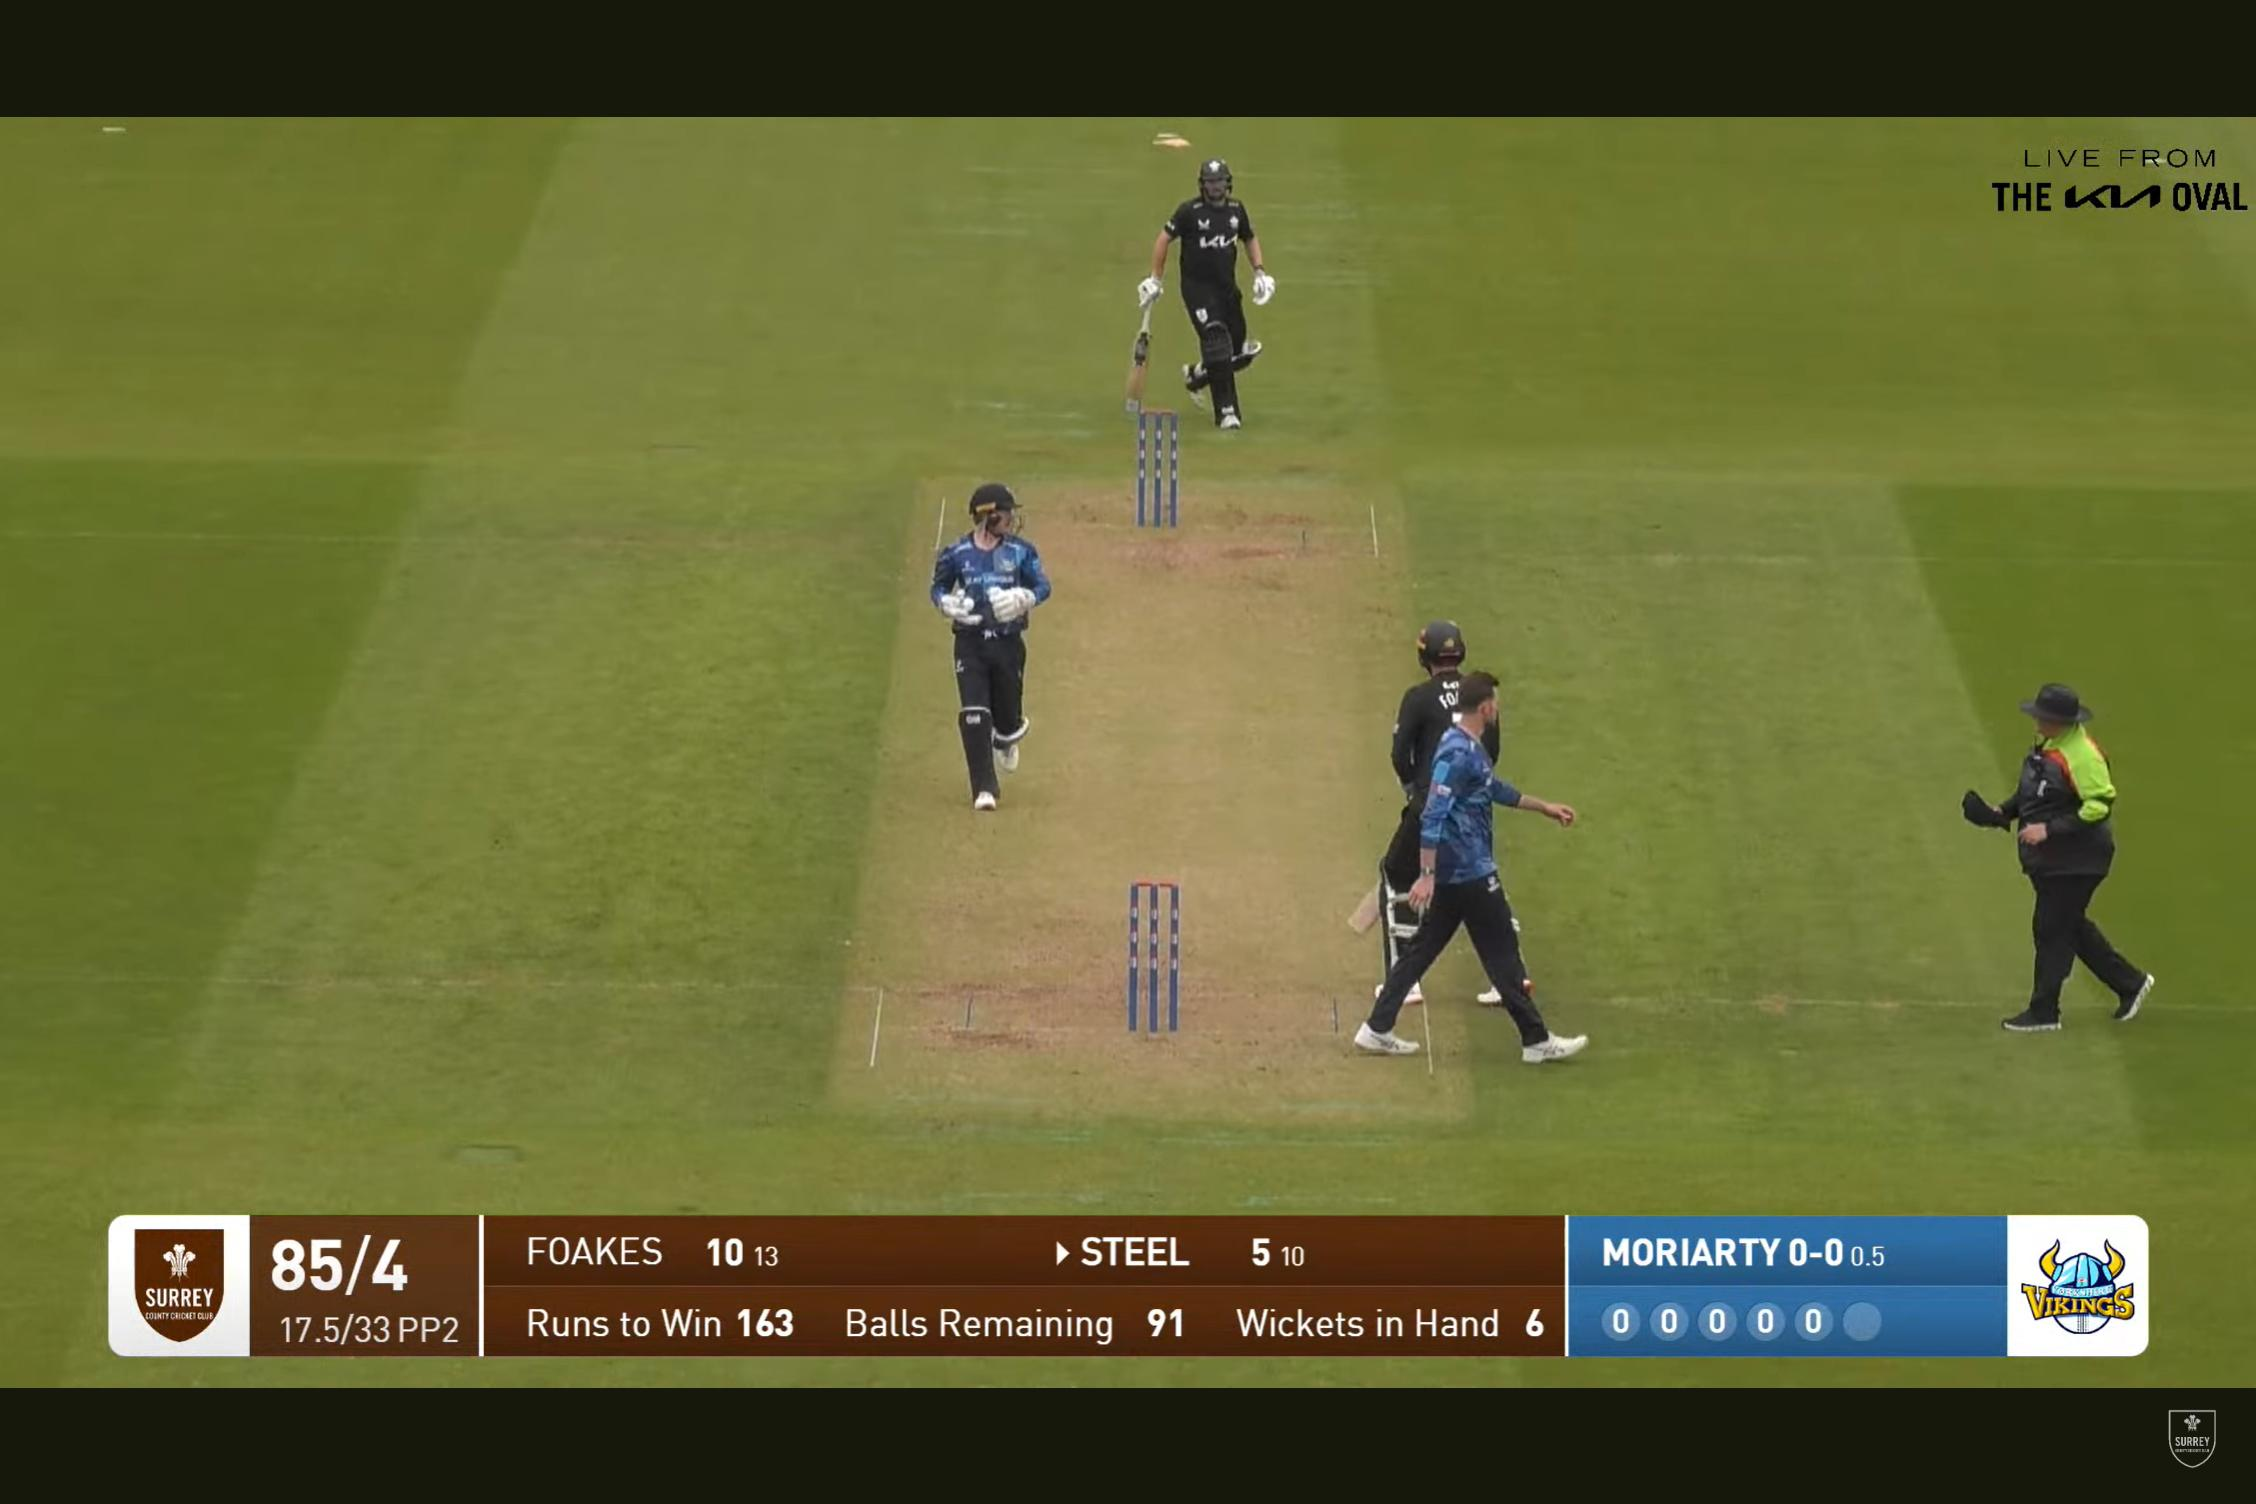bowler walking back: (1351, 671, 1536, 1086)
stumps: (1111, 871, 1197, 1046), (1128, 398, 1188, 547)
umpire: (1991, 658, 2145, 1064)
wicket keeper: (906, 478, 1068, 812)
